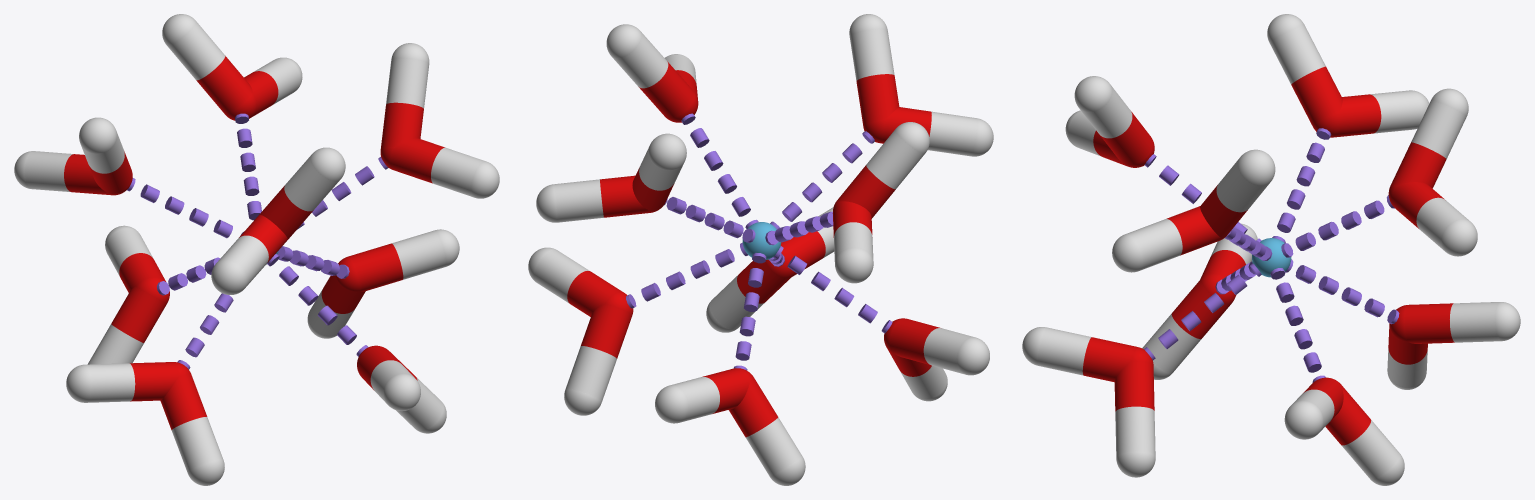
The picture shows the model from 3 angles, left to right: view 1: azimuth 30°, elevation 25°; view 2: azimuth 150°, elevation 25°; view 3: azimuth 270°, elevation 25°; orthographic projection. The views are drawn at different scales.
Visible parts, largest first — view 1: bonds, atoms, pbonds; view 2: bonds, atoms, pbonds; view 3: bonds, atoms, pbonds.
Boxes of the visible parts, x1,y1,x2,y2 form: bonds: (24,21,485,472); atoms: (14,14,499,485); pbonds: (127,113,388,369); bonds: (534,28,977,476); atoms: (528,14,993,485); pbonds: (626,113,892,370); bonds: (1037,24,1500,479); atoms: (1022,14,1520,485); pbonds: (1144,128,1399,382).
Size of the model in its own units: 5.07 by 3.96 by 5.05.
